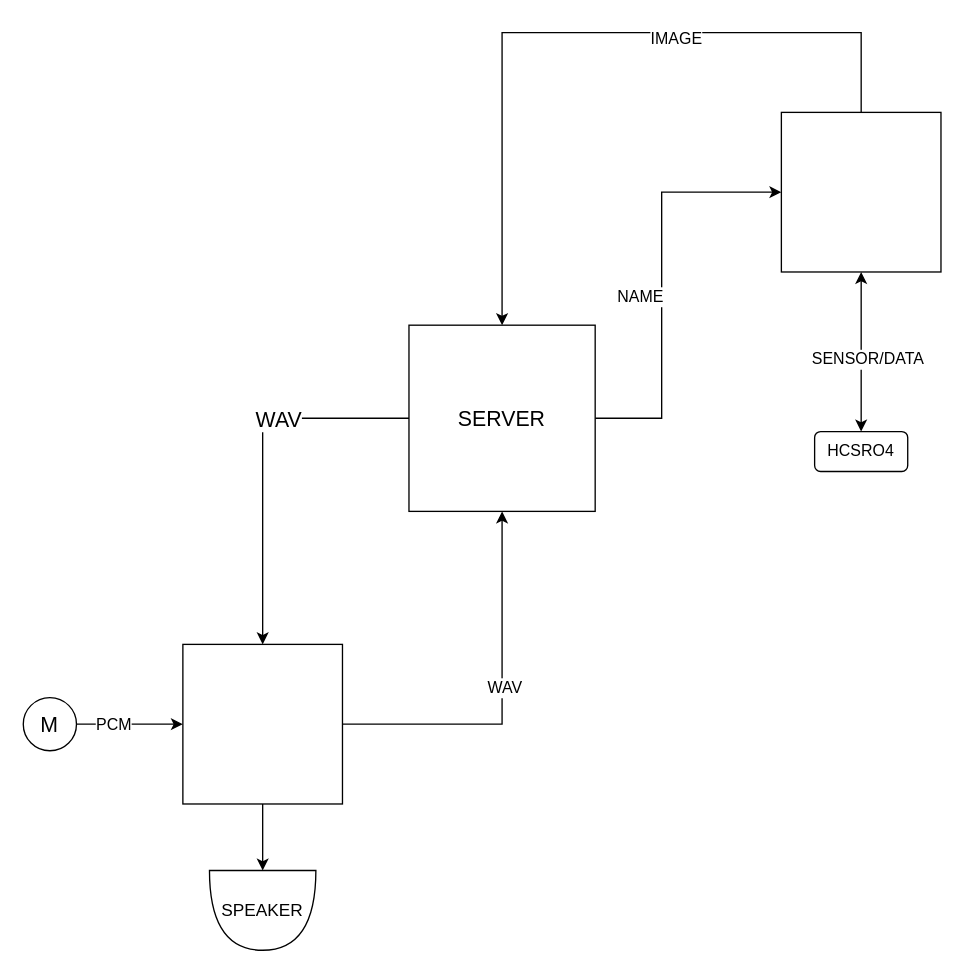
Image size: 964x974. Some labels were removed from this diagram. Each missing label, with the centre of its shape:
"ESP 32 DEV BOARD" goes at (x=262, y=723).
"ESPCAM" goes at (x=860, y=191).
